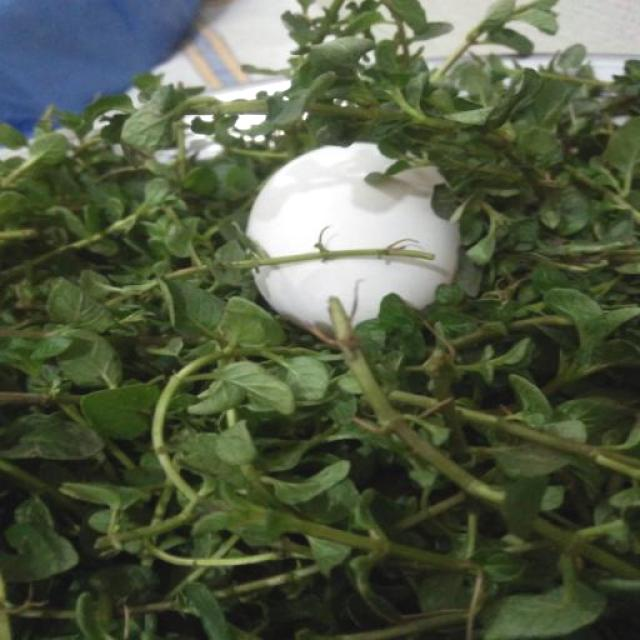telur: (246, 144, 464, 332)
